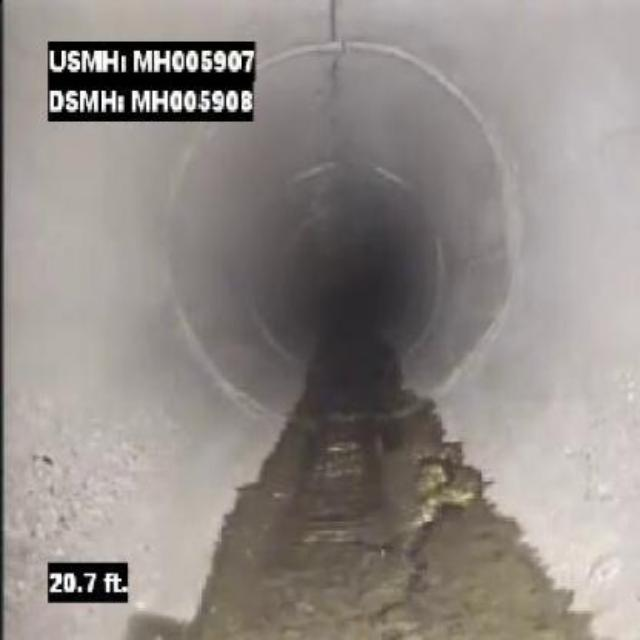Crack: (317, 3, 357, 137), (372, 542, 434, 628)
Hole: (408, 440, 492, 537)
